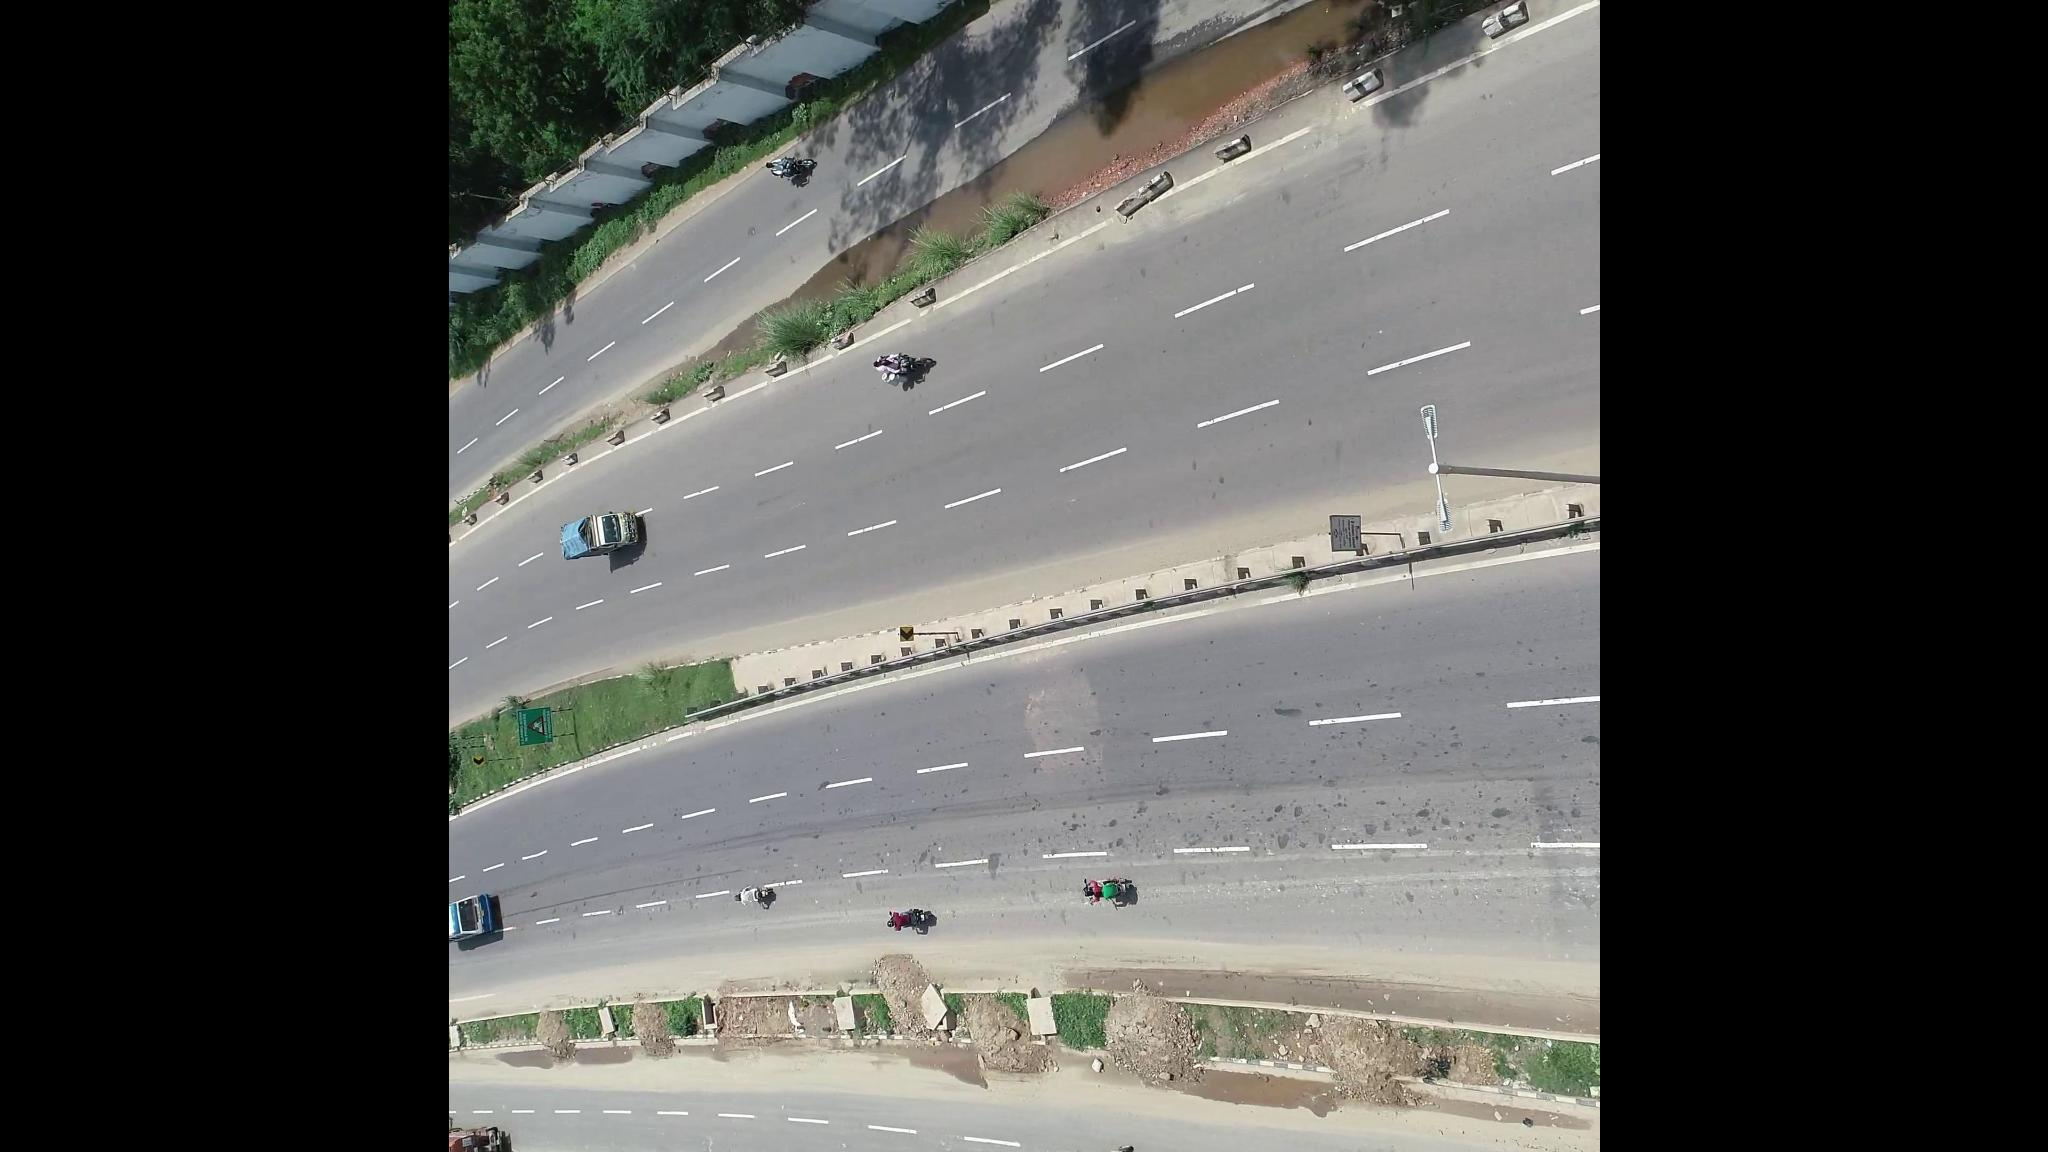Waterlogging: (1030, 46, 1234, 204), (833, 167, 1023, 288)
